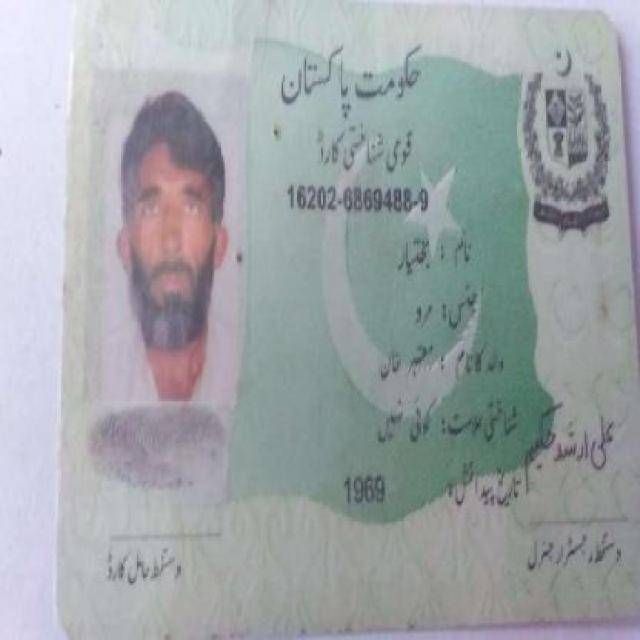Front: (54, 14, 632, 615)
